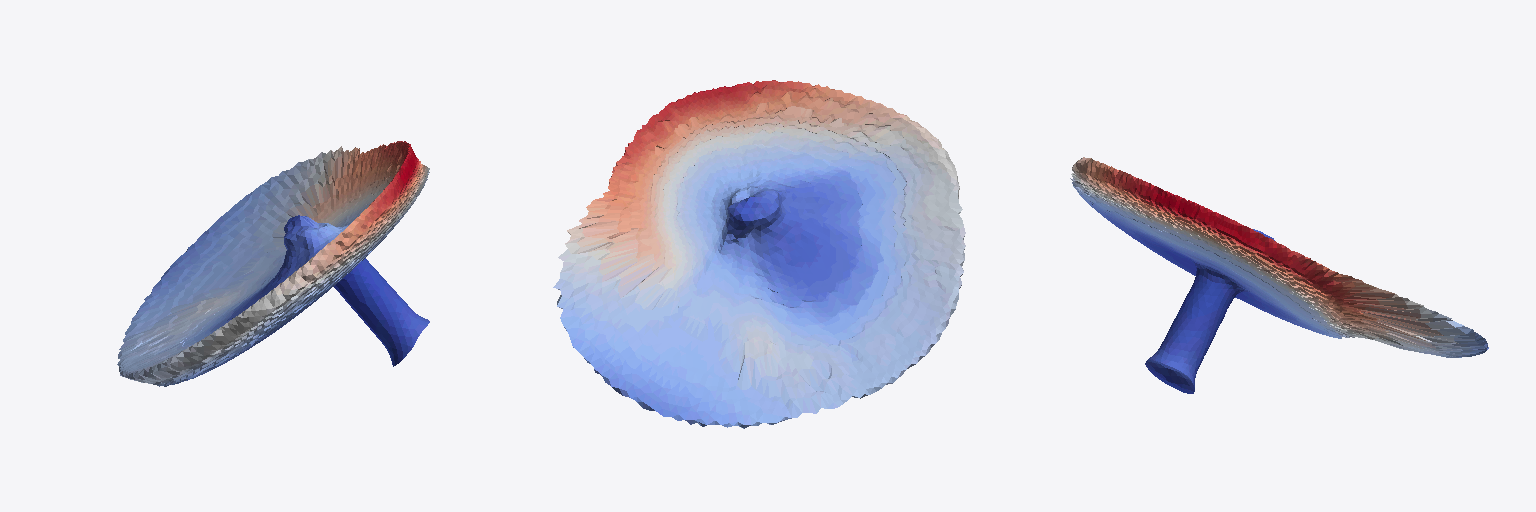
The model's file is colored_model_disk.obj.
3 renders of one model, left to right at view 1: azimuth 30°, elevation 25°; view 2: azimuth 150°, elevation 25°; view 3: azimuth 270°, elevation 25°, orthographic.
Bounding box in the file's own units: 17.75 × 12.72 × 22.12.